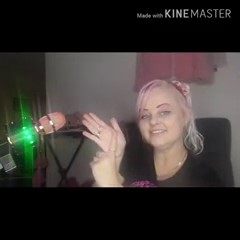L: (80, 110, 127, 188)
